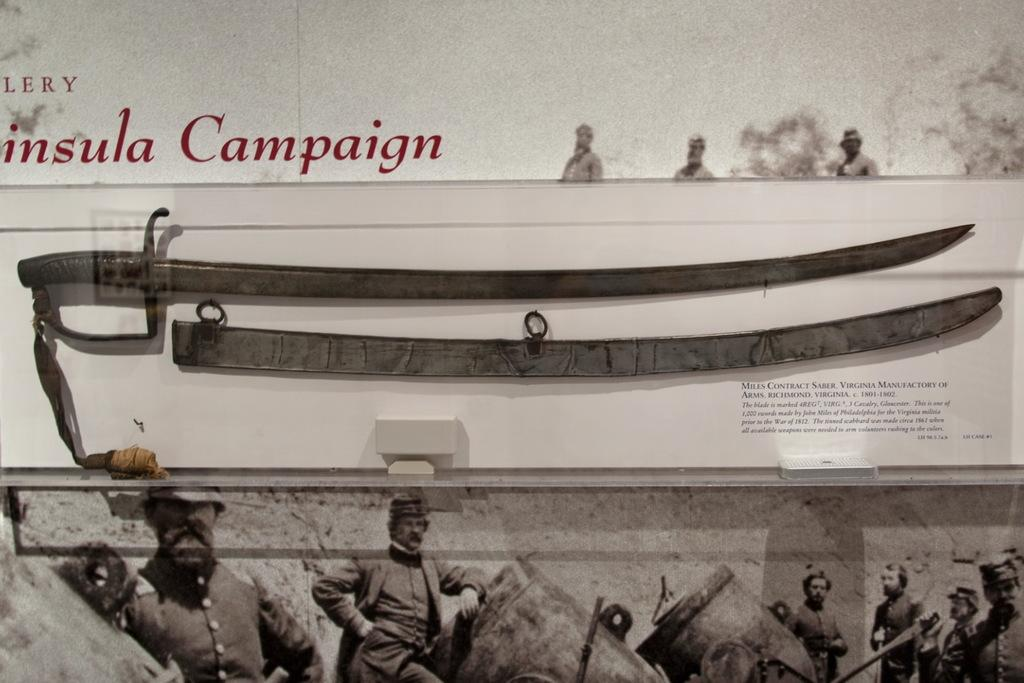Sword: (15, 206, 976, 481)
